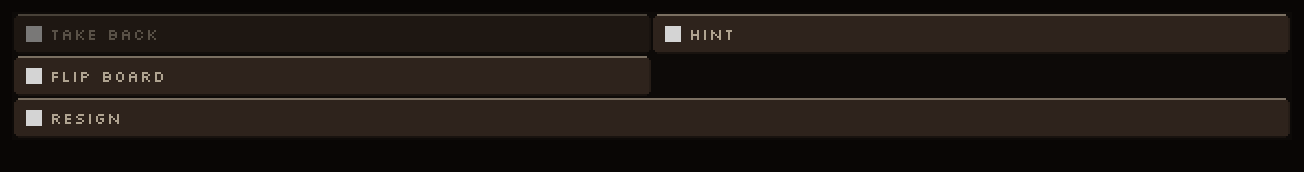
UI Component Integration Tests › the resign key › disarms when another key on the plate is used
Click the button "Resign".
click(86, 118)  # box [14,98,1290,138]
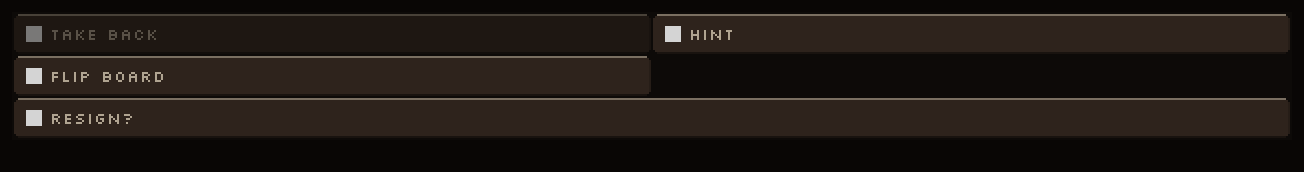
Click the button "Flip board".
click(108, 76)  # box [14,56,651,96]
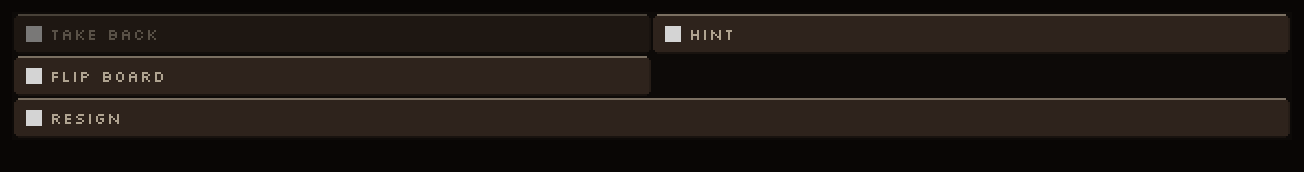
Check: the button "Resign" is shown, box [14,98,1290,138]
